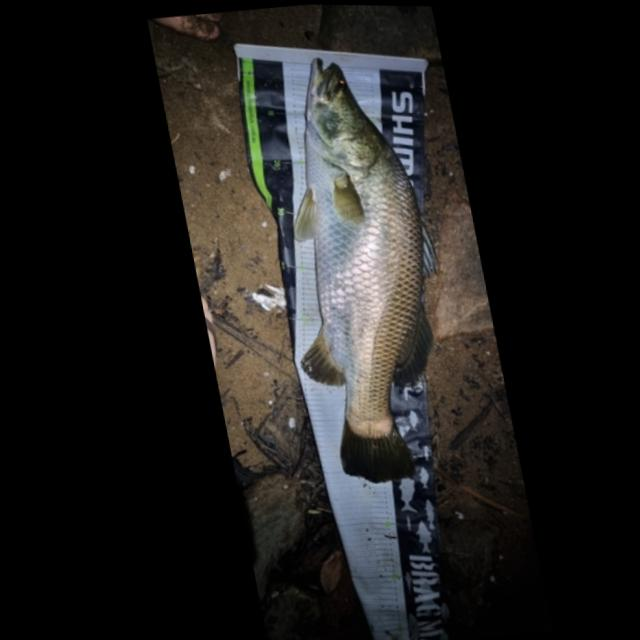Seabass: (238, 47, 482, 493)
